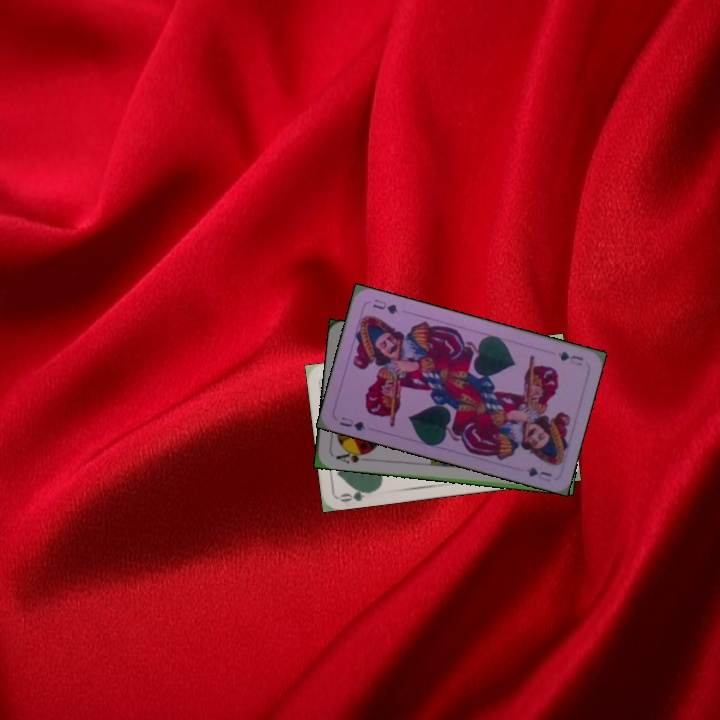GO: (336, 484, 376, 504)
GU: (336, 413, 368, 434), (554, 347, 585, 368)
SA: (332, 446, 371, 466)
